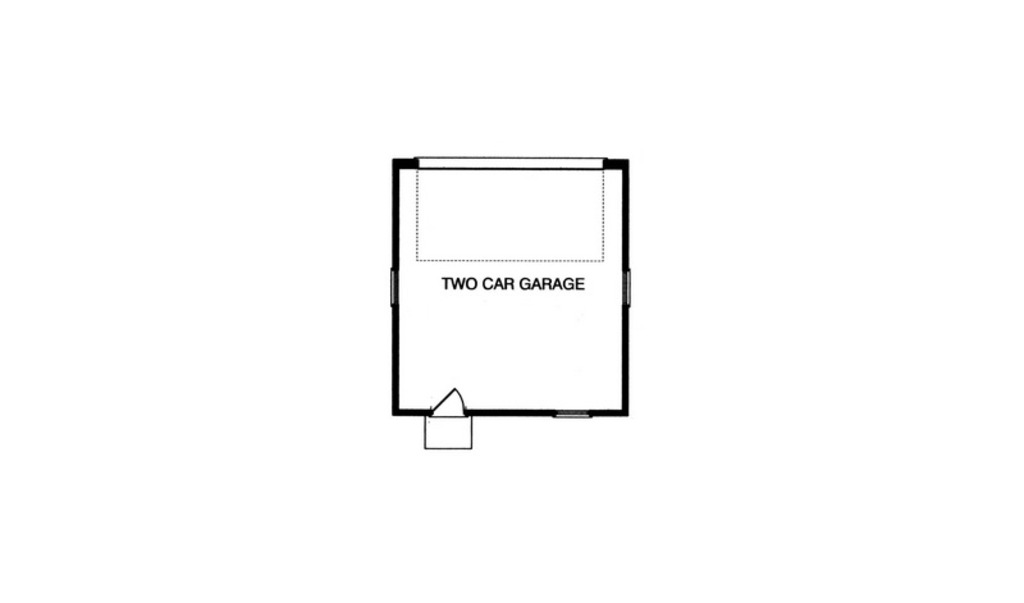door: (424, 386, 469, 417)
window: (391, 272, 402, 305), (625, 271, 635, 303), (553, 408, 587, 417)
